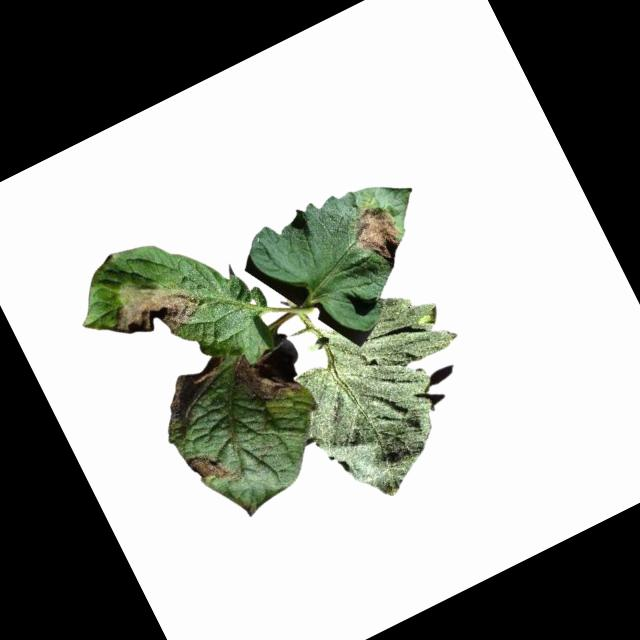Late_blight: (96, 259, 208, 361), (152, 350, 239, 422), (232, 340, 302, 413), (345, 199, 411, 274), (182, 444, 230, 496)
healthy: (263, 274, 505, 517)
